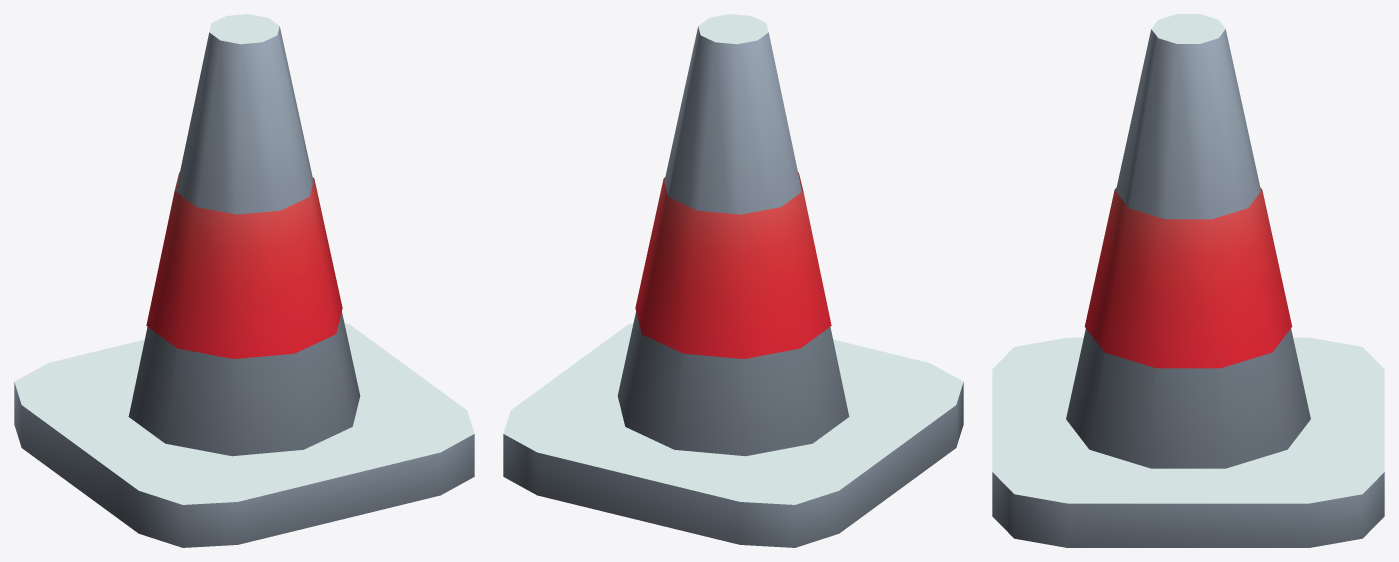
Rendered from Traffic_Cone_1A.fbx.
3 renders of one model, left to right at view 1: azimuth 30°, elevation 25°; view 2: azimuth 150°, elevation 25°; view 3: azimuth 270°, elevation 25°, orthographic. The views are drawn at different scales.
Parts seen in each view (by area): view 1: Traffic_Cone_1A; view 2: Traffic_Cone_1A; view 3: Traffic_Cone_1A.
Part boxes in pixels (<box>): Traffic_Cone_1A: <box>14,14,474,547</box>; Traffic_Cone_1A: <box>503,14,963,547</box>; Traffic_Cone_1A: <box>992,14,1384,547</box>.
Bounding box in the file's own units: 26.82 × 32.88 × 26.82.
